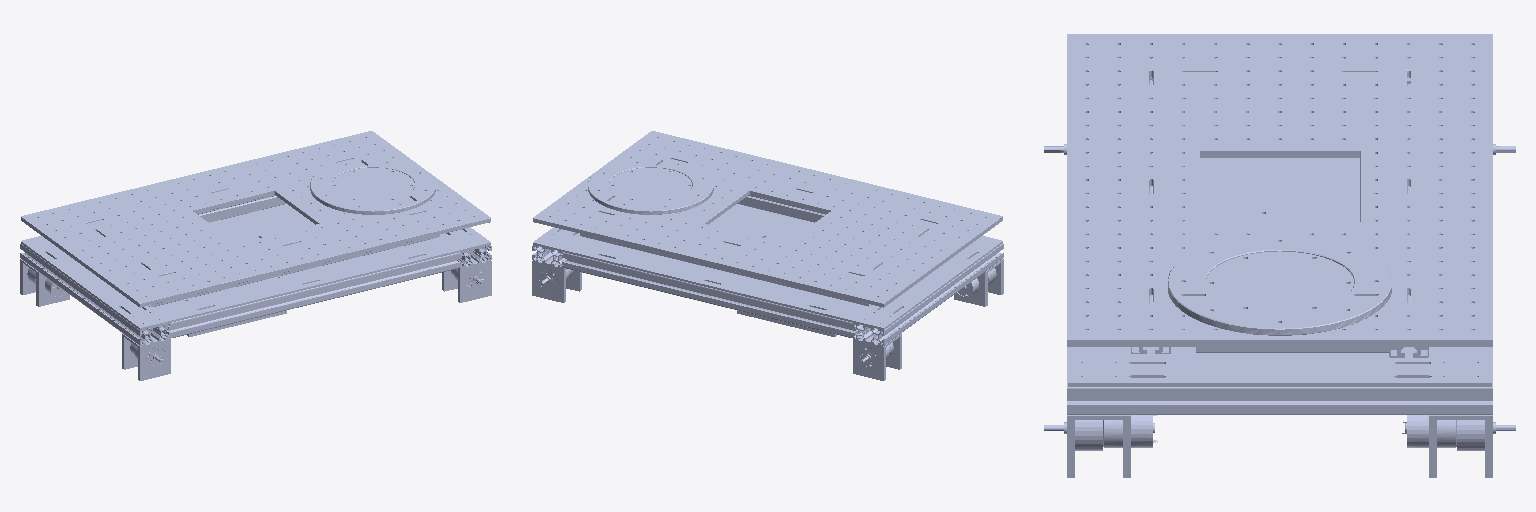
The robot description file, URDF, robot "hyumob":
<?xml version="1.0" encoding="utf-8"?>
<!-- This URDF was automatically created by SolidWorks to URDF Exporter! Originally created by [author] ([email redacted]) 
     Commit Version: 1.6.0-4-g7f85cfe  Build Version: 1.6.7995.38578
     For more information, please see http://wiki.ros.org/sw_urdf_exporter -->
<robot name="hyumob">
  <material name="black">
    <color rgba="0.0 0.0 0.0 1.0"/>
  </material>
  <material name="blue">
    <color rgba="0.0 0.0 0.8 1.0"/>
  </material>
  <material name="green">
    <color rgba="0.0 0.8 0.0 1.0"/>
  </material>
  <material name="grey_">
    <color rgba="0.2 0.2 0.2 1.0"/>
  </material>
  <material name="orange">
    <color rgba="1.0 0.4235294117647059 0.0392156862745098 1.0"/>
  </material>
  <material name="brown">
    <color rgba="0.8705882352941177 0.8117647058823529 0.7647058823529411 1.0"/>
  </material>
  <material name="red">
    <color rgba="0.8 0.0 0.0 1.0"/>
  </material>
  <material name="white">
    <color rgba="1.0 1.0 1.0 1.0"/>
  </material>
  <material name="metal">
    <color rgba="0.768627450980392 0.749019607843137 0.729411764705882 1"/>
  </material>
  <material name="metal_grey">
    <color rgba="0.501960784313725 0.501960784313725 0.501960784313725 1"/>
  </material>
  <material name="metal_white">
    <color rgba="0.866666666666667 0.866666666666667 0.890196078431373 1"/>
  </material>
  
  <!-- Mobile HYUMob -->
  <link name="world">
      <inertial>
          <mass value="0.000001" />
          <origin xyz="0.0 0.0 0.0" rpy="0 0 0" />
          <inertia ixx="0.000001" ixy="0" ixz="0" iyy="0.000001" iyz="0" izz="0.000001" />
      </inertial>
  </link>
  <joint name="lin_x_joint" type="prismatic">
    <origin rpy="0 0 0" xyz="0 0 0"/>
    <axis xyz="1 0 0"/>
    <limit effort="1000.0" lower="-1e+16" upper="1e+16" velocity="3.5"/>
    <joint_properties damping="1" friction="1"/>
    <parent link="world"/>
    <child link="lin_x_link"/>
  </joint>
  <link name="lin_x_link">
      <inertial>
          <mass value="0.000001" />
          <origin xyz="0.0 0.0 0.0" rpy="0 0 0" />
          <inertia ixx="0.000001" ixy="0" ixz="0" iyy="0.000001" iyz="0" izz="0.000001" />
      </inertial>
  </link>
  <joint name="lin_y_joint" type="prismatic">
    <origin rpy="0 0 0" xyz="0 0 0"/>
    <axis xyz="0 1 0"/>
    <limit effort="1000.0" lower="-1e+16" upper="1e+16" velocity="3.5"/>
    <joint_properties damping="1" friction="1"/>
    <parent link="lin_x_link"/>
    <child link="lin_y_link"/>
  </joint>
  <link name="lin_y_link">
      <inertial>
          <mass value="0.000001" />
          <origin xyz="0.0 0.0 0.0" rpy="0 0 0" />
          <inertia ixx="0.000001" ixy="0" ixz="0" iyy="0.000001" iyz="0" izz="0.000001" />
      </inertial>
  </link>
  <joint name="rot_z_joint" type="revolute">
    <origin rpy="0 0 0" xyz="0 0 0"/>
    <axis xyz="0 0 1"/>
    <limit effort="1000.0" lower="-1e+16" upper="1e+16" velocity="3.5"/>
    <joint_properties damping="1" friction="1"/>
    <parent link="lin_y_link"/>
    <child link="base_link"/>
  </joint>
  <link
    name="base_link">
    <inertial>
      <origin
        xyz="-0.02314163 0 0.14646583"
        rpy="0 0 0" />
      <mass
        value="53.53736408" />
      <inertia
        ixx="2.96015072"
        ixy="0.01131569"
        ixz="-0.09911039"
        iyy="6.10299823"
        iyz="0.00000642"
        izz="6.47749603" />
    </inertial>
    <visual>
      <origin
        xyz="0 0 0"
        rpy="0 0 0" />
      <geometry>
        <mesh
          filename="meshes/stl/base_link.STL" />
      </geometry>
      <material
        name="">
        <color
          rgba="0.79216 0.81961 0.93333 1" />
      </material>
    </visual>
    <collision>
      <origin
        xyz="0 0 0"
        rpy="0 0 0" />
      <geometry>
        <mesh
          filename="meshes/stl/base_link.STL" />
      </geometry>
    </collision>
  </link>  
</robot>

--- Render facts (derived) ---
The picture shows the robot from 3 angles, left to right: view 1: azimuth 30°, elevation 25°; view 2: azimuth 150°, elevation 25°; view 3: azimuth 270°, elevation 25°; orthographic projection.
Model hyumob with 4 links and 3 joints (1 revolute, 2 prismatic), rooted at world, posed every joint at zero.
Links seen in each view (by area): view 1: base_link; view 2: base_link; view 3: base_link.
Boxes of the visible links, x1,y1,x2,y2 form: base_link: (20,131,491,380); base_link: (532,131,1003,380); base_link: (1044,34,1515,477).
Bounding box of the posed robot: 0.9 × 0.586 × 0.2 m (x, y, z).
Meshes: 1 distinct files referenced, 1 mesh visuals loaded (1 binary STL).
